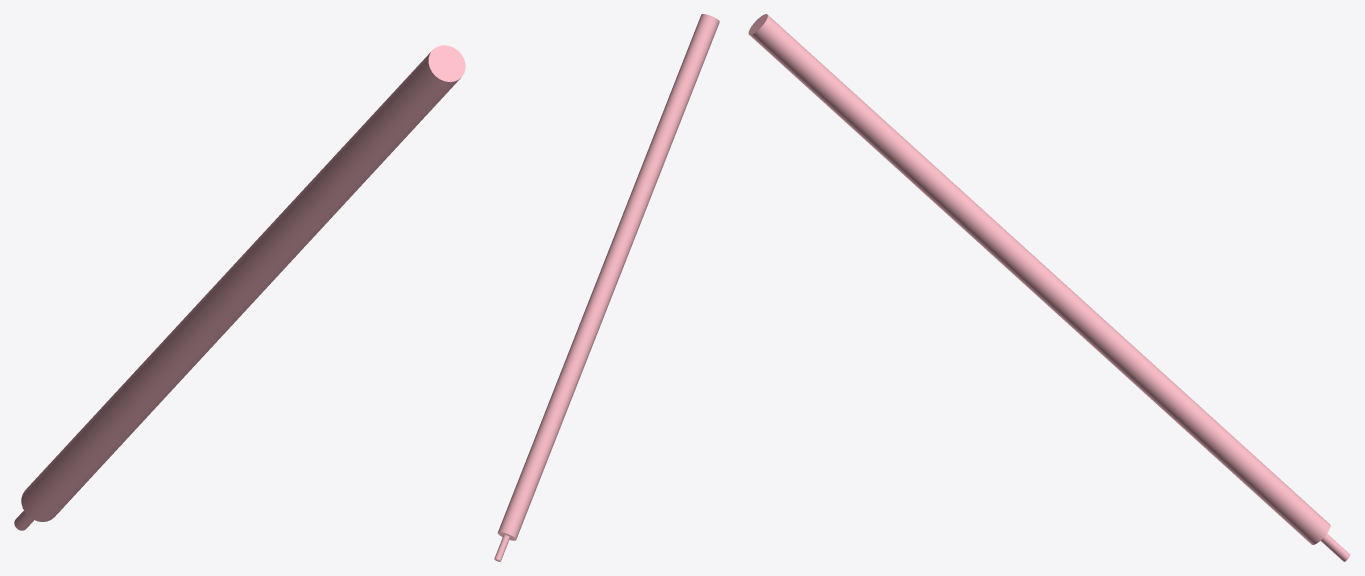
The model's file is original-6.obj.
The picture shows the model from 3 angles, left to right: view 1: azimuth 30°, elevation 25°; view 2: azimuth 150°, elevation 25°; view 3: azimuth 270°, elevation 25°; orthographic projection. The views are drawn at different scales.
Parts seen in each view (by area): view 1: Group7/mesh14/mesh14-geometry#mesh14-geometry; view 2: Group7/mesh14/mesh14-geometry#mesh14-geometry; view 3: Group7/mesh14/mesh14-geometry#mesh14-geometry.
Part boxes in pixels (bbox=[...]): Group7/mesh14/mesh14-geometry#mesh14-geometry: bbox=[14, 45, 465, 530]; Group7/mesh14/mesh14-geometry#mesh14-geometry: bbox=[494, 14, 719, 561]; Group7/mesh14/mesh14-geometry#mesh14-geometry: bbox=[748, 14, 1350, 561].
Bounding box in the file's own units: 0.0157 × 0.3441 × 0.3441.
